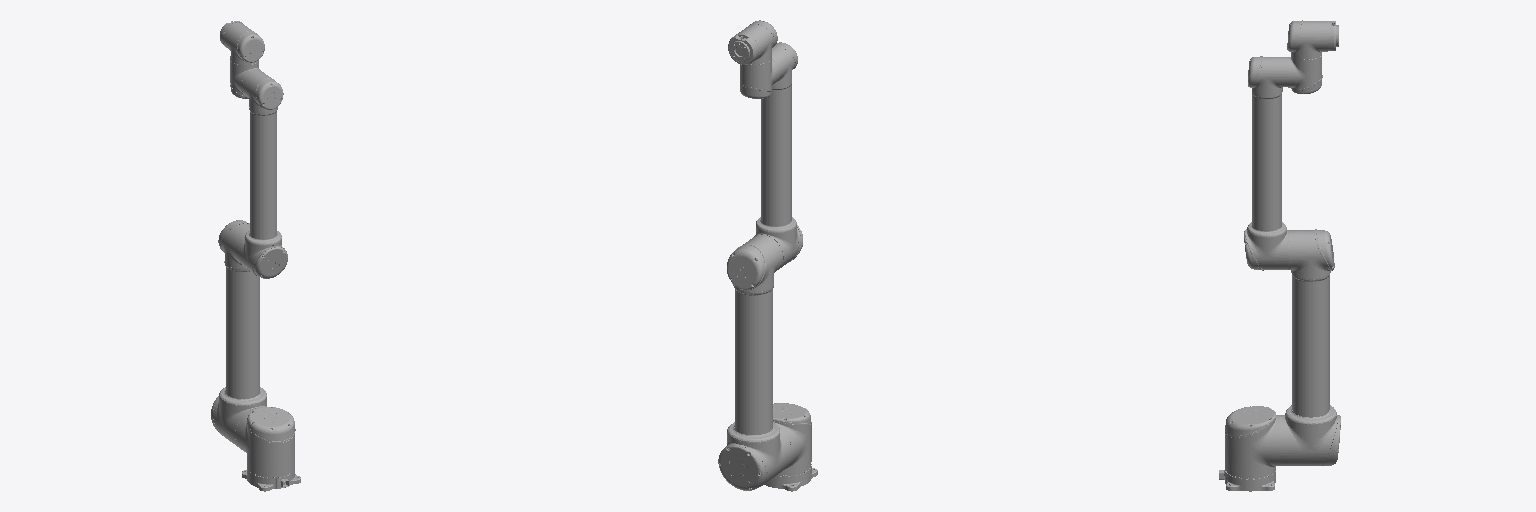
robot.urdf — ur10:
<?xml version="1.0" ?>
<!-- =================================================================================== -->
<!-- |    This document was autogenerated by xacro from urdf/ur10_robot.urdf.xacro     | -->
<!-- |    EDITING THIS FILE BY HAND IS NOT RECOMMENDED                                 | -->
<!-- =================================================================================== -->
<robot name="ur10" xmlns:xacro="http://www.ros.org/wiki/xacro">
  <!-- ur10 -->
  <material name="gray">
    <color rgba="0.7 0.7 0.7 1" />
  </material>

  <!-- arm -->
  <link name="base_link">
    <visual>
      <geometry>
        <mesh filename="ur_description/meshes/ur10/visual/Base.obj"/>
      </geometry>
      <material name="gray" />
    </visual>
    <collision>
      <geometry>
        <mesh filename="ur_description/meshes/ur10/collision/Base.obj"/>
      </geometry>
    </collision>
    <inertial>
      <mass value="4.0"/>
      <origin rpy="0 0 0" xyz="0.0 0.0 0.0"/>
      <inertia ixx="0.0061063308908" ixy="0.0" ixz="0.0" iyy="0.0061063308908" iyz="0.0" izz="0.01125"/>
    </inertial>
  </link>
  <joint name="shoulder_pan_joint" type="revolute">
    <parent link="base_link"/>
    <child link="shoulder_link"/>
    <origin rpy="0.0 0.0 0.0" xyz="0.0 0.0 0.1273"/>
    <axis xyz="0 0 1"/>
    <limit effort="330.0" lower="-6.2831853" upper="6.2831853" velocity="2.16"/>
    <dynamics damping="0.0" friction="0.0"/>
  </joint>
  <link name="shoulder_link">
    <visual>
      <geometry>
        <mesh filename="ur_description/meshes/ur10/visual/Shoulder.obj"/>
      </geometry>
      <material name="gray" />
    </visual>
    <collision>
      <geometry>
        <mesh filename="ur_description/meshes/ur10/collision/Shoulder.obj"/>
      </geometry>
    </collision>
    <inertial>
      <mass value="7.778"/>
      <origin rpy="0 0 0" xyz="0.0 0.0 0.0"/>
      <inertia ixx="0.0314743125769" ixy="0.0" ixz="0.0" iyy="0.0314743125769" iyz="0.0" izz="0.021875625"/>
    </inertial>
  </link>
  <joint name="shoulder_lift_joint" type="revolute">
    <parent link="shoulder_link"/>
    <child link="upper_arm_link"/>
    <origin rpy="0.0 0.0 0.0" xyz="0.0 0.220941 0.0"/>
    <axis xyz="0 1 0"/>
    <limit effort="330.0" lower="-6.2831853" upper="6.2831853" velocity="2.16"/>
    <dynamics damping="0.0" friction="0.0"/>
  </joint>
  <link name="upper_arm_link">
    <visual>
      <geometry>
        <mesh filename="ur_description/meshes/ur10/visual/UpperArm.obj"/>
      </geometry>
      <material name="gray"/>
    </visual>
    <collision>
      <geometry>
        <mesh filename="ur_description/meshes/ur10/collision/UpperArm.obj"/>
      </geometry>
    </collision>
    <inertial>
      <mass value="12.93"/>
      <origin rpy="0 0 0" xyz="0.0 0.0 0.306"/>
      <inertia ixx="0.421753803798" ixy="0.0" ixz="0.0" iyy="0.421753803798" iyz="0.0" izz="0.036365625"/>
    </inertial>
  </link>
  <joint name="elbow_joint" type="revolute">
    <parent link="upper_arm_link"/>
    <child link="forearm_link"/>
    <origin rpy="0.0 0.0 0.0" xyz="0.0 -0.1719 0.612"/>
    <axis xyz="0 1 0"/>
    <limit effort="150.0" lower="-6.2831853" upper="6.2831853" velocity="3.15"/>
    <dynamics damping="0.0" friction="0.0"/>
  </joint>
  <link name="forearm_link">
    <visual>
      <geometry>
        <mesh filename="ur_description/meshes/ur10/visual/Forearm.obj"/>
      </geometry>
      <material name="gray" />
    </visual>
    <collision>
      <geometry>
        <mesh filename="ur_description/meshes/ur10/collision/Forearm.obj"/>
      </geometry>
    </collision>
    <inertial>
      <mass value="3.87"/>
      <origin rpy="0 0 0" xyz="0.0 0.0 0.28615"/>
      <inertia ixx="0.111069694097" ixy="0.0" ixz="0.0" iyy="0.111069694097" iyz="0.0" izz="0.010884375"/>
    </inertial>
  </link>
  <joint name="wrist_1_joint" type="revolute">
    <parent link="forearm_link"/>
    <child link="wrist_1_link"/>
    <origin rpy="0.0 0.0 0.0" xyz="0.0 0.0 0.5723"/>
    <axis xyz="0 1 0"/>
    <limit effort="54.0" lower="-6.2831853" upper="6.2831853" velocity="3.2"/>
    <dynamics damping="0.0" friction="0.0"/>
  </joint>
  <link name="wrist_1_link">
    <visual>
      <geometry>
        <mesh filename="ur_description/meshes/ur10/visual/Wrist1.obj"/>
      </geometry>
      <material name="gray" />
    </visual>
    <collision>
      <geometry>
        <mesh filename="ur_description/meshes/ur10/collision/Wrist1.obj"/>
      </geometry>
    </collision>
    <inertial>
      <mass value="1.96"/>
      <origin rpy="0 0 0" xyz="0.0 0.0 0.0"/>
      <inertia ixx="0.0051082479567" ixy="0.0" ixz="0.0" iyy="0.0051082479567" iyz="0.0" izz="0.0055125"/>
    </inertial>
  </link>
  <joint name="wrist_2_joint" type="revolute">
    <parent link="wrist_1_link"/>
    <child link="wrist_2_link"/>
    <origin rpy="0.0 0.0 0.0" xyz="0.0 0.1149 0.0"/>
    <axis xyz="0 0 1"/>
    <limit effort="54.0" lower="-6.2831853" upper="6.2831853" velocity="3.2"/>
    <dynamics damping="0.0" friction="0.0"/>
  </joint>
  <link name="wrist_2_link">
    <visual>
      <geometry>
        <mesh filename="ur_description/meshes/ur10/visual/Wrist2.obj"/>
      </geometry>
      <material name="gray" />
    </visual>
    <collision>
      <geometry>
        <mesh filename="ur_description/meshes/ur10/collision/Wrist2.obj"/>
      </geometry>
    </collision>
    <inertial>
      <mass value="1.96"/>
      <origin rpy="0 0 0" xyz="0.0 0.0 0.0"/>
      <inertia ixx="0.0051082479567" ixy="0.0" ixz="0.0" iyy="0.0051082479567" iyz="0.0" izz="0.0055125"/>
    </inertial>
  </link>
  <joint name="wrist_3_joint" type="revolute">
    <parent link="wrist_2_link"/>
    <child link="wrist_3_link"/>
    <origin rpy="0.0 0.0 0.0" xyz="0.0 0.0 0.1157"/>
    <axis xyz="0 1 0"/>
    <limit effort="54.0" lower="-6.2831853" upper="6.2831853" velocity="3.2"/>
    <dynamics damping="0.0" friction="0.0"/>
  </joint>
  <link name="wrist_3_link">
    <visual>
      <geometry>
        <mesh filename="ur_description/meshes/ur10/visual/Wrist3.obj"/>
      </geometry>
      <material name="gray" />
    </visual>
    <collision>
      <geometry>
        <mesh filename="ur_description/meshes/ur10/collision/Wrist3.obj"/>
      </geometry>
    </collision>
    <inertial>
      <mass value="0.202"/>
      <origin rpy="0 0 0" xyz="0.0 0.0 0.0"/>
      <inertia ixx="0.000526462289415" ixy="0.0" ixz="0.0" iyy="0.000526462289415" iyz="0.0" izz="0.000568125"/>
    </inertial>
  </link>
  <transmission name="shoulder_pan_trans">
    <type>transmission_interface/SimpleTransmission</type>
    <joint name="shoulder_pan_joint"/>
    <actuator name="shoulder_pan_motor">
      <hardwareInterface>EffortJointInterface</hardwareInterface>
      <mechanicalReduction>1</mechanicalReduction>
    </actuator>
  </transmission>
  <transmission name="shoulder_lift_trans">
    <type>transmission_interface/SimpleTransmission</type>
    <joint name="shoulder_lift_joint"/>
    <actuator name="shoulder_lift_motor">
      <hardwareInterface>EffortJointInterface</hardwareInterface>
      <mechanicalReduction>1</mechanicalReduction>
    </actuator>
  </transmission>
  <transmission name="elbow_trans">
    <type>transmission_interface/SimpleTransmission</type>
    <joint name="elbow_joint"/>
    <actuator name="elbow_motor">
      <hardwareInterface>EffortJointInterface</hardwareInterface>
      <mechanicalReduction>1</mechanicalReduction>
    </actuator>
  </transmission>
  <transmission name="wrist_1_trans">
    <type>transmission_interface/SimpleTransmission</type>
    <joint name="wrist_1_joint"/>
    <actuator name="wrist_1_motor">
      <hardwareInterface>EffortJointInterface</hardwareInterface>
      <mechanicalReduction>1</mechanicalReduction>
    </actuator>
  </transmission>
  <transmission name="wrist_2_trans">
    <type>transmission_interface/SimpleTransmission</type>
    <joint name="wrist_2_joint"/>
    <actuator name="wrist_2_motor">
      <hardwareInterface>EffortJointInterface</hardwareInterface>
      <mechanicalReduction>1</mechanicalReduction>
    </actuator>
  </transmission>
  <transmission name="wrist_3_trans">
    <type>transmission_interface/SimpleTransmission</type>
    <joint name="wrist_3_joint"/>
    <actuator name="wrist_3_motor">
      <hardwareInterface>EffortJointInterface</hardwareInterface>
      <mechanicalReduction>1</mechanicalReduction>
    </actuator>
  </transmission>
  <link name="world"/>
  <joint name="world_joint" type="fixed">
    <parent link="world"/>
    <child link="base_link"/>
    <origin rpy="0.0 0.0 0.0" xyz="0.0 0.0 0.0"/>
  </joint>
</robot>

--- Facts derived from the render (not from the file) ---
Views: 3 orthographic renders of the robot side by side, from view 1: azimuth 30°, elevation 25°; view 2: azimuth 150°, elevation 25°; view 3: azimuth 270°, elevation 25°.
Model ur10 with 8 links and 7 joints (6 revolute, 1 fixed), rooted at world, posed all joints at 0.
Links seen in each view (by area): view 1: upper_arm_link, forearm_link, shoulder_link, wrist_2_link, base_link, wrist_1_link; view 2: upper_arm_link, forearm_link, shoulder_link, wrist_1_link, wrist_2_link, wrist_3_link, base_link; view 3: upper_arm_link, forearm_link, shoulder_link, wrist_2_link, wrist_1_link, base_link.
Boxes of the visible links, bbox=[...] form: upper_arm_link: bbox=[211, 220, 266, 449]; forearm_link: bbox=[237, 70, 287, 278]; shoulder_link: bbox=[237, 407, 295, 477]; wrist_2_link: bbox=[223, 22, 264, 64]; base_link: bbox=[242, 469, 300, 491]; wrist_1_link: bbox=[230, 59, 259, 98]; upper_arm_link: bbox=[718, 236, 792, 490]; forearm_link: bbox=[754, 42, 802, 269]; shoulder_link: bbox=[773, 403, 811, 476]; wrist_1_link: bbox=[740, 59, 778, 98]; wrist_2_link: bbox=[738, 20, 777, 63]; wrist_3_link: bbox=[728, 33, 758, 64]; base_link: bbox=[764, 466, 817, 491]; upper_arm_link: bbox=[1280, 229, 1340, 465]; forearm_link: bbox=[1244, 56, 1290, 270]; shoulder_link: bbox=[1225, 406, 1279, 479]; wrist_2_link: bbox=[1287, 20, 1327, 59]; wrist_1_link: bbox=[1288, 54, 1322, 93]; base_link: bbox=[1219, 470, 1275, 491].
Size in the robot's own frame: 0.1504 by 0.3551 by 1.47 metres.
7 mesh visuals loaded from 7 distinct referenced files (7 OBJ).